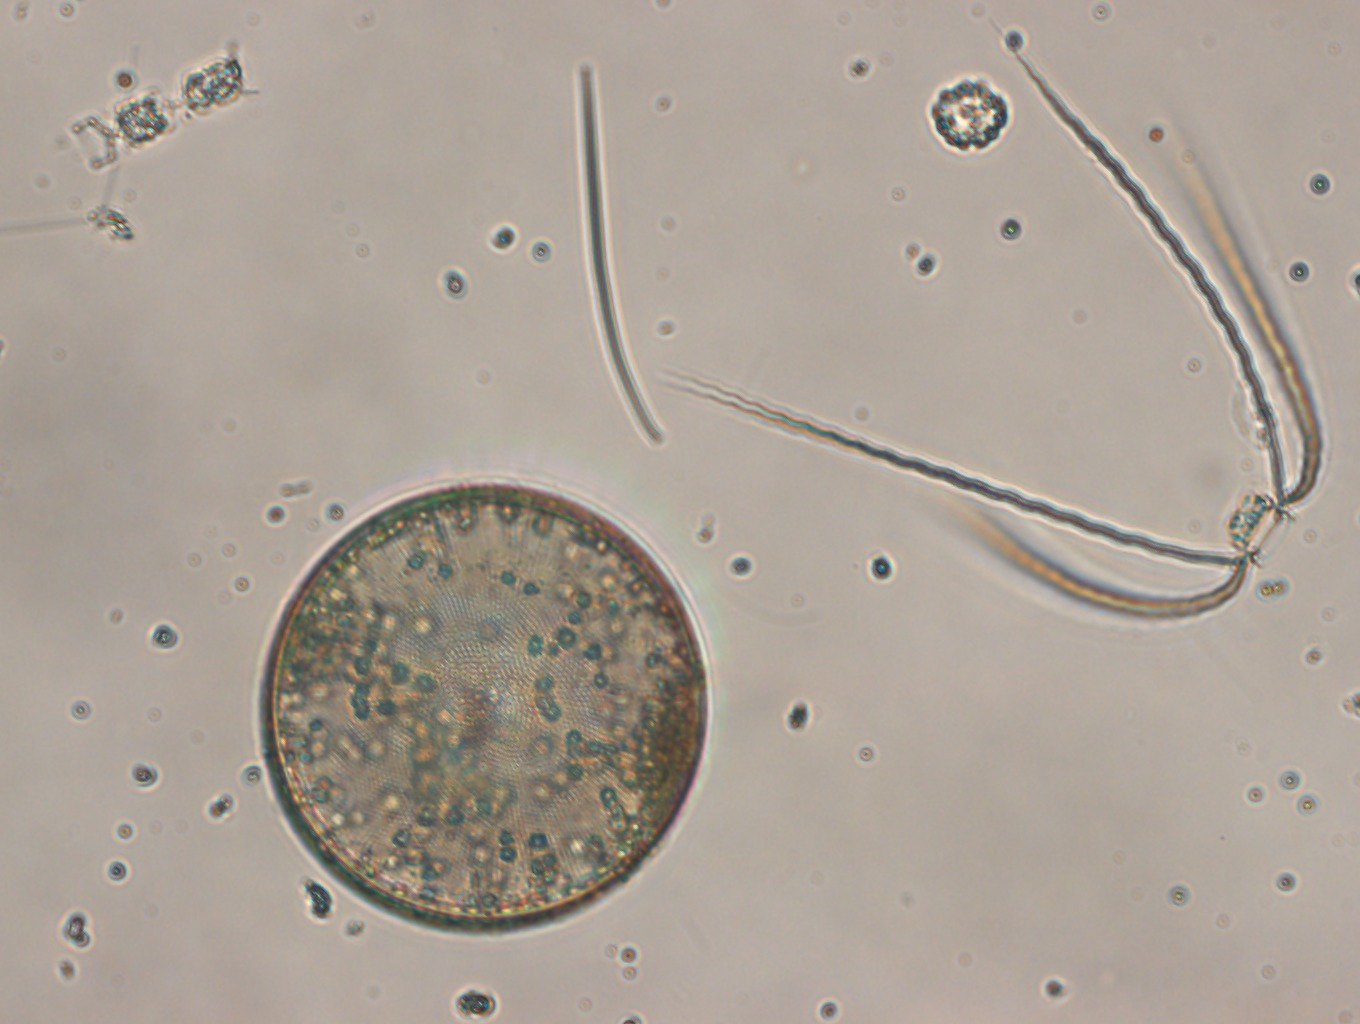chaetoceros: (657, 13, 1325, 622), (67, 49, 255, 174)
coscinodiscus: (253, 478, 710, 933)
